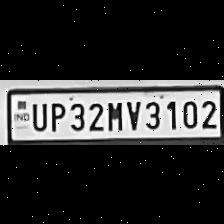0: (178, 97, 198, 127)
1: (163, 97, 179, 129)
2: (198, 96, 218, 128), (86, 97, 104, 130)
3: (66, 99, 86, 131), (141, 97, 161, 129)
M: (104, 97, 124, 130)
P: (47, 99, 65, 131)
U: (28, 98, 48, 130)
V: (123, 98, 141, 130)
